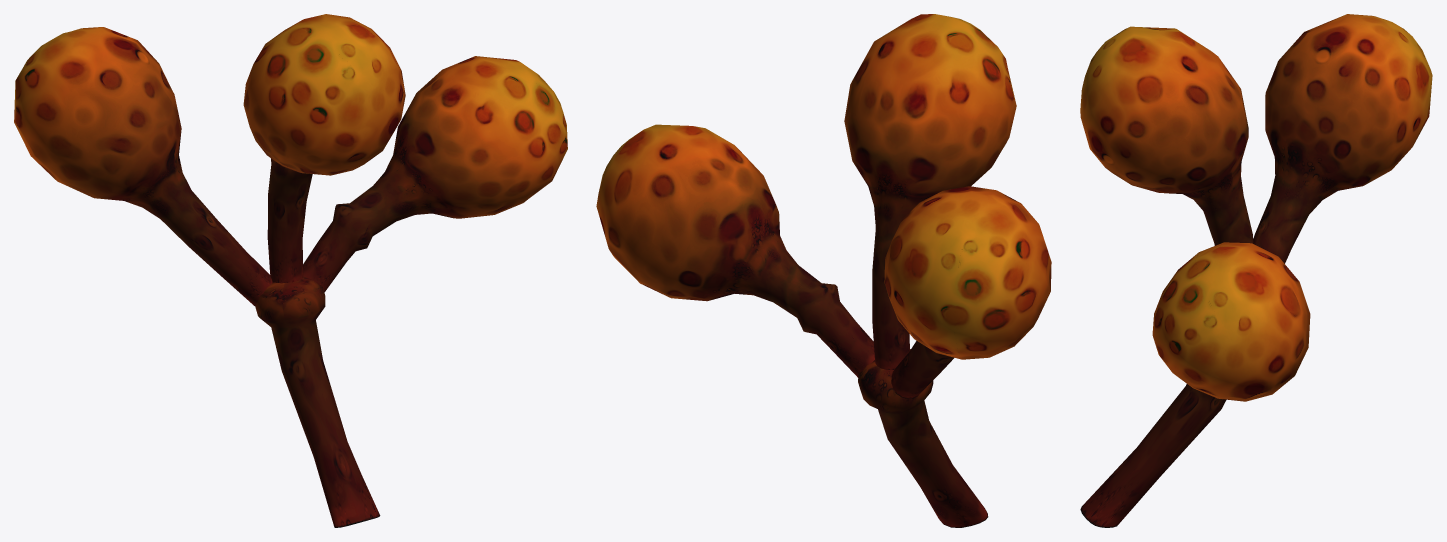
Rendered from Frucht.FBX.
3 renders of one model, left to right at view 1: azimuth 30°, elevation 25°; view 2: azimuth 150°, elevation 25°; view 3: azimuth 270°, elevation 25°, orthographic. The views are drawn at different scales.
Parts seen in each view (by area): view 1: Cylinder016; view 2: Cylinder016; view 3: Cylinder016.
Boxes of the visible parts, x1,y1,x2,y2 form: Cylinder016: [14, 14, 567, 527]; Cylinder016: [596, 14, 1051, 527]; Cylinder016: [1080, 14, 1432, 527].
Bounding box in the file's own units: 382 × 247 × 379.
